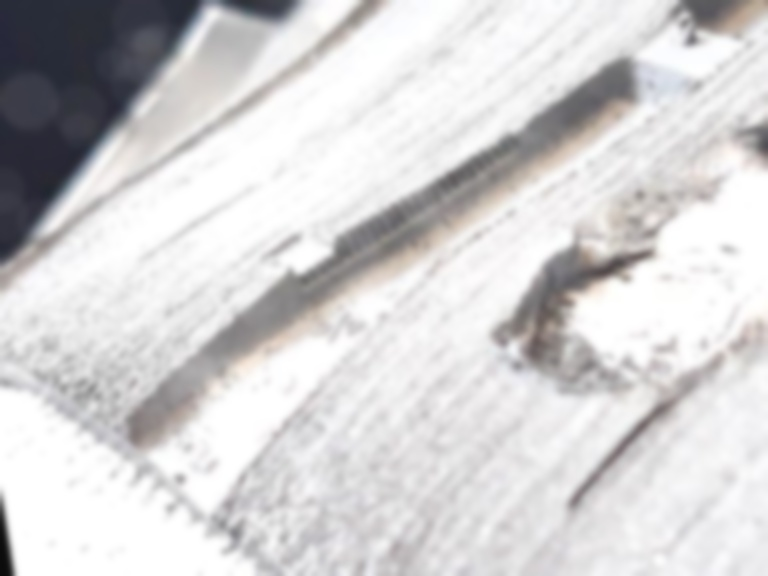temoin:0: (247, 197, 385, 304)
